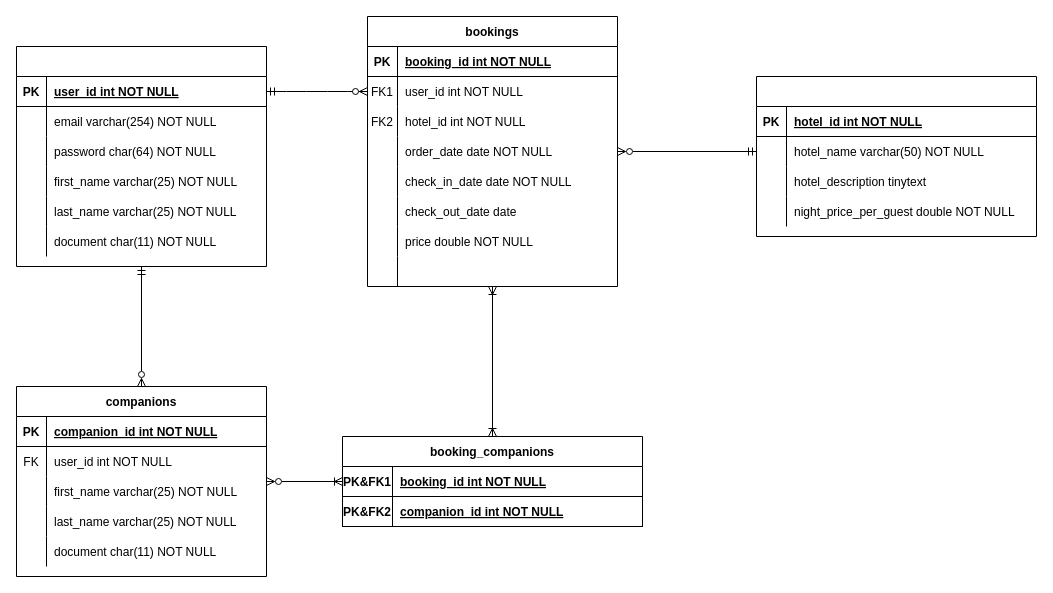
Some shapes in this 1053 by 593 pixel diagram are drawn without their labels. Here are the shapes that lost their labels. From the top down, the box of each, then its label:
(16, 46, 266, 266): users
(756, 76, 1036, 236): hotels
